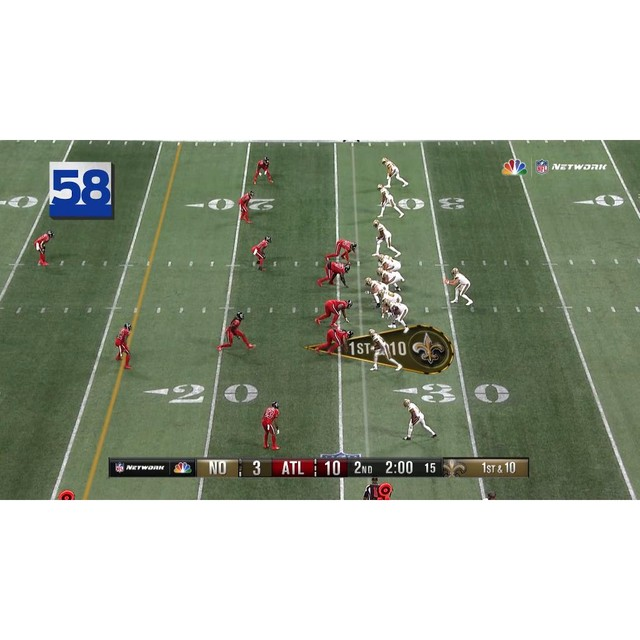american-football-player: (402, 398, 436, 441), (369, 328, 402, 372), (217, 312, 254, 351), (443, 267, 473, 306), (372, 218, 400, 257), (315, 326, 352, 355), (315, 299, 352, 327), (377, 182, 404, 219), (262, 401, 281, 451), (114, 322, 133, 369), (364, 276, 390, 310), (317, 262, 349, 289), (382, 156, 408, 188), (325, 239, 356, 265), (251, 235, 271, 271), (376, 253, 404, 278), (388, 299, 409, 332), (35, 230, 54, 265), (376, 267, 402, 290), (238, 191, 254, 223), (255, 157, 273, 183)
